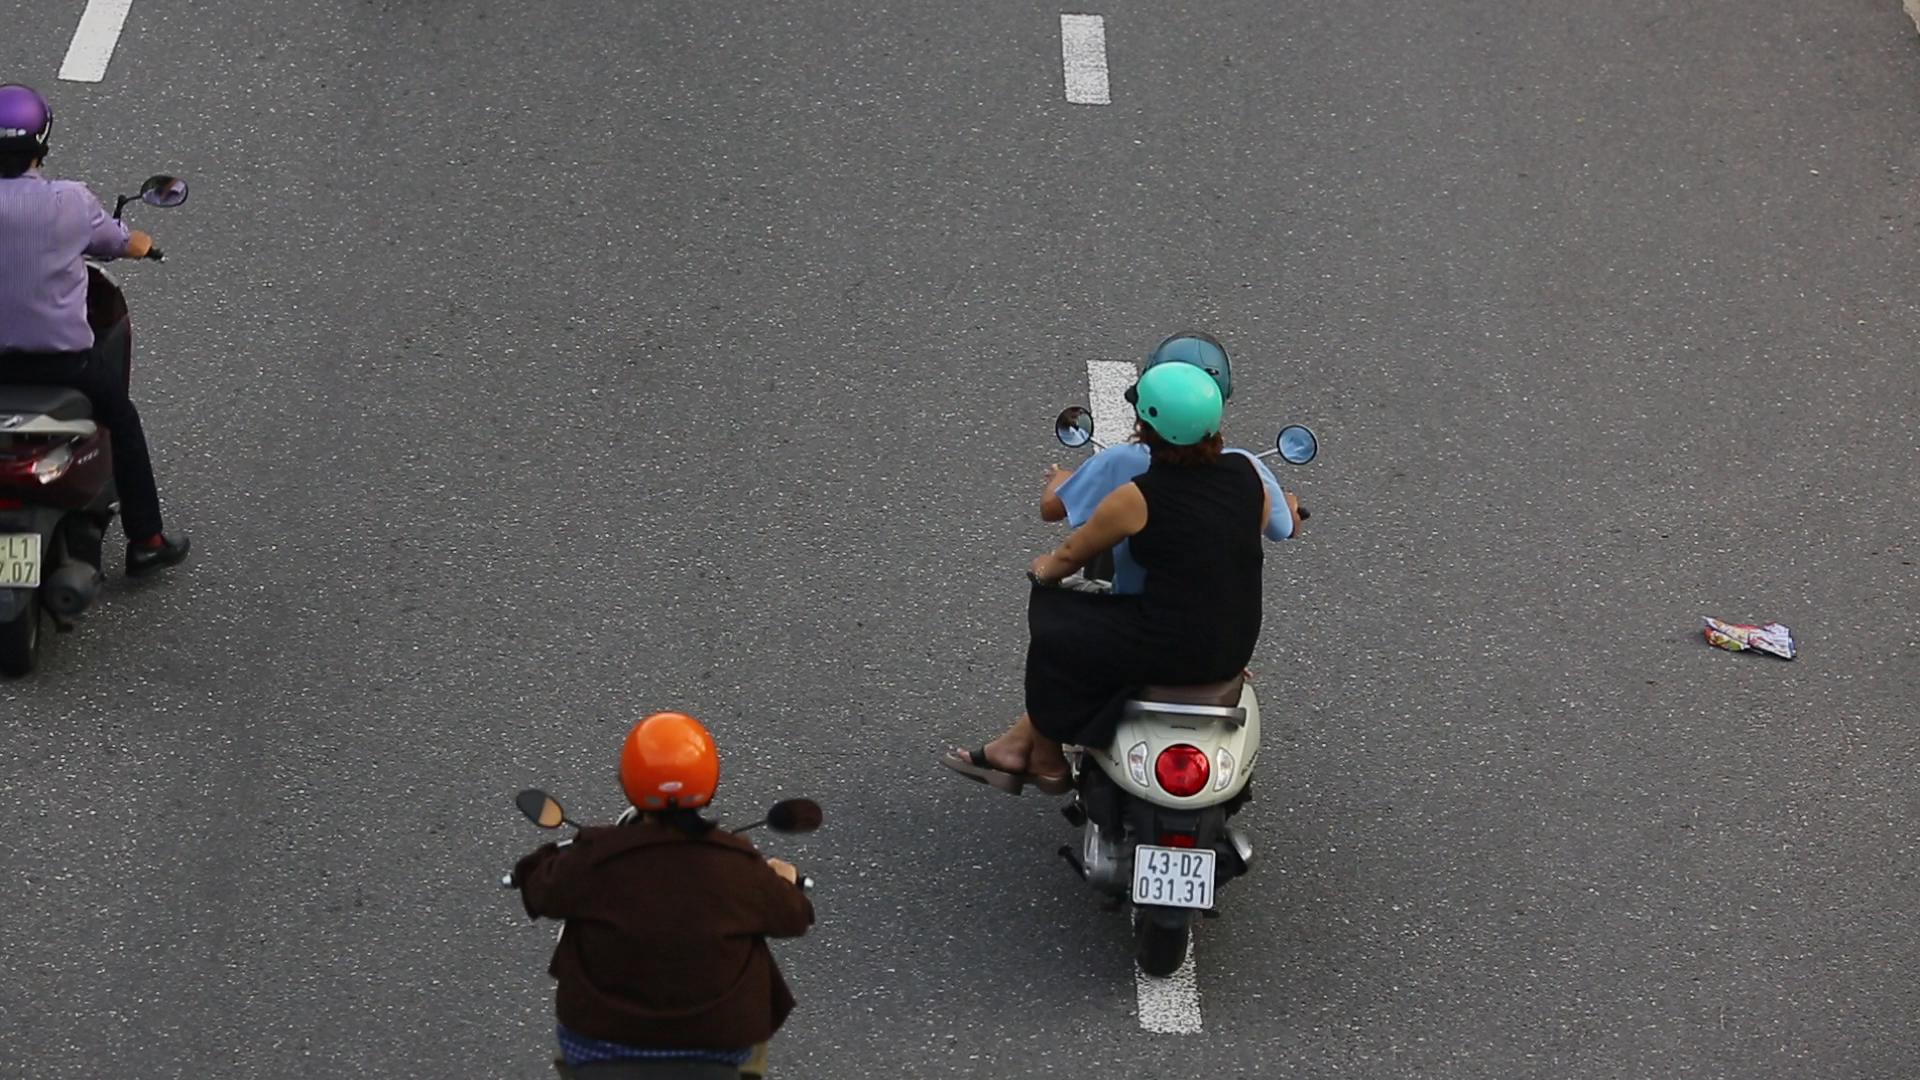motobike: (932, 309, 1337, 972)
